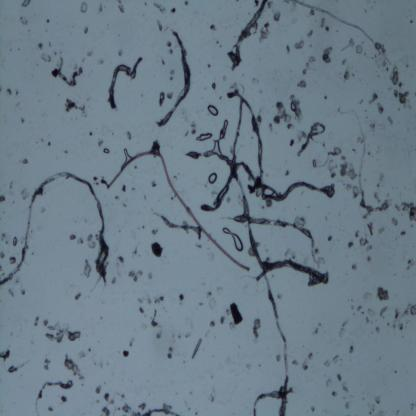Air bubble: (211, 118, 228, 152), (222, 227, 244, 252), (195, 131, 214, 142), (390, 69, 400, 87), (207, 104, 219, 117), (208, 173, 218, 185), (124, 148, 131, 163), (12, 236, 18, 247)
Background material: (226, 208, 319, 264), (43, 318, 81, 345), (271, 99, 294, 130), (63, 354, 86, 383), (289, 92, 303, 122), (64, 99, 86, 117), (229, 302, 245, 325), (370, 54, 388, 74), (399, 200, 416, 221), (326, 156, 340, 180), (190, 337, 203, 361), (340, 162, 356, 181), (302, 52, 315, 75), (150, 239, 164, 259), (322, 44, 334, 66), (282, 246, 299, 261), (398, 90, 411, 109), (302, 350, 313, 372), (135, 293, 151, 308), (259, 22, 271, 42), (252, 316, 262, 340), (82, 258, 93, 278), (367, 115, 379, 133), (320, 13, 330, 33), (257, 111, 268, 129), (378, 284, 389, 302), (328, 146, 342, 159), (293, 37, 306, 51), (40, 51, 52, 66), (368, 91, 379, 107), (307, 159, 320, 172), (92, 174, 106, 186), (296, 217, 311, 228), (131, 242, 141, 258), (151, 308, 159, 328), (153, 292, 166, 304), (338, 322, 348, 337), (208, 296, 218, 311), (88, 233, 96, 251), (190, 120, 198, 138), (0, 230, 10, 244), (406, 257, 416, 271), (367, 221, 376, 236), (5, 288, 16, 300), (127, 270, 139, 281), (354, 43, 364, 56), (151, 141, 161, 154), (379, 304, 388, 318), (205, 394, 216, 405), (0, 348, 11, 359), (272, 352, 282, 364), (156, 322, 163, 339), (7, 365, 20, 374), (166, 344, 173, 360), (80, 0, 88, 14), (117, 0, 125, 14), (273, 9, 281, 23), (366, 402, 374, 416), (394, 308, 402, 322), (352, 184, 360, 198), (19, 16, 30, 26), (121, 403, 131, 414), (384, 115, 394, 126), (275, 290, 284, 302), (342, 69, 351, 81), (101, 404, 110, 416), (58, 394, 68, 404), (138, 321, 148, 331), (391, 217, 401, 227), (356, 305, 365, 316), (153, 1, 164, 10), (377, 102, 384, 116), (128, 336, 136, 348), (296, 80, 308, 88), (158, 90, 164, 106), (326, 374, 332, 390), (44, 356, 50, 372), (155, 21, 162, 34), (126, 129, 133, 142), (78, 351, 87, 361), (366, 309, 376, 318), (331, 355, 341, 364), (362, 317, 372, 326), (377, 174, 383, 189), (211, 23, 220, 33), (377, 224, 385, 235), (94, 385, 101, 397), (97, 136, 103, 150), (375, 394, 382, 406), (103, 391, 110, 403), (228, 80, 237, 89), (359, 238, 368, 247), (291, 357, 300, 366), (117, 390, 125, 400), (102, 146, 110, 156), (356, 96, 364, 106), (69, 232, 77, 242), (398, 228, 408, 236), (32, 317, 40, 327), (392, 204, 400, 214), (352, 229, 360, 239), (121, 182, 127, 195), (409, 304, 416, 315), (336, 372, 343, 383), (74, 291, 81, 302), (122, 347, 129, 358), (168, 39, 173, 54), (24, 189, 30, 201), (10, 254, 16, 266), (138, 306, 146, 315), (35, 41, 43, 50), (118, 46, 124, 58), (18, 115, 26, 124), (284, 43, 290, 55), (96, 56, 102, 68), (251, 78, 260, 86), (266, 198, 273, 208), (209, 318, 216, 328), (219, 315, 226, 325), (21, 1, 32, 7), (288, 138, 294, 149), (349, 345, 355, 356), (150, 182, 158, 190), (97, 362, 105, 370), (20, 290, 28, 298), (350, 263, 358, 271), (117, 255, 125, 263), (347, 240, 354, 249), (14, 103, 21, 112), (311, 326, 318, 335), (146, 272, 152, 282), (132, 410, 142, 416), (52, 68, 58, 78), (84, 25, 90, 35), (374, 194, 380, 204), (366, 254, 372, 264), (151, 227, 158, 235), (185, 332, 192, 340), (139, 402, 146, 410), (120, 202, 128, 209), (6, 90, 13, 98), (77, 238, 85, 245), (178, 294, 185, 302), (21, 157, 28, 165), (307, 9, 314, 17), (98, 3, 103, 14), (0, 249, 5, 260), (212, 82, 217, 93), (310, 404, 315, 415), (198, 299, 204, 308), (206, 60, 212, 69), (396, 406, 402, 415), (245, 361, 251, 370), (332, 389, 338, 398), (0, 195, 6, 204), (86, 48, 92, 57), (357, 136, 363, 145), (399, 323, 404, 333), (308, 28, 313, 38), (341, 386, 348, 393), (374, 326, 381, 333), (376, 409, 383, 416), (221, 74, 227, 82), (48, 406, 54, 414), (168, 92, 174, 100), (267, 124, 273, 132), (409, 402, 415, 410), (326, 236, 332, 244), (254, 0, 260, 8), (398, 81, 404, 89), (161, 58, 166, 67), (325, 358, 330, 367), (184, 129, 189, 138), (205, 290, 212, 296), (40, 207, 46, 214), (114, 194, 120, 201), (64, 147, 70, 154), (113, 276, 118, 284), (393, 90, 398, 98), (47, 137, 51, 146), (178, 331, 182, 340), (160, 9, 166, 15), (14, 91, 20, 97), (346, 401, 350, 410), (350, 304, 356, 310), (47, 41, 52, 48), (284, 168, 288, 176), (169, 70, 174, 76), (45, 18, 50, 24), (52, 50, 57, 56), (318, 321, 324, 326), (40, 139, 46, 144), (408, 19, 413, 24), (169, 76, 173, 82), (143, 194, 147, 200), (88, 132, 92, 138), (368, 150, 371, 158), (324, 94, 328, 100), (219, 94, 223, 100), (171, 9, 176, 13), (170, 197, 174, 202), (141, 225, 145, 230), (88, 346, 92, 351), (392, 324, 396, 329), (10, 184, 13, 190), (258, 363, 262, 367), (394, 369, 397, 374), (387, 323, 389, 327)
Cellulose filter fibre: (231, 170, 290, 412), (0, 169, 110, 286), (292, 0, 392, 66), (339, 107, 393, 211), (200, 100, 244, 212), (226, 88, 265, 184), (155, 31, 192, 129), (227, 0, 270, 72), (246, 175, 336, 202), (259, 256, 329, 287), (107, 57, 144, 111), (151, 209, 204, 240), (35, 378, 74, 415), (251, 388, 297, 416), (296, 122, 326, 158), (57, 56, 84, 88), (141, 408, 177, 416)
Microfibre: (106, 149, 252, 272)
